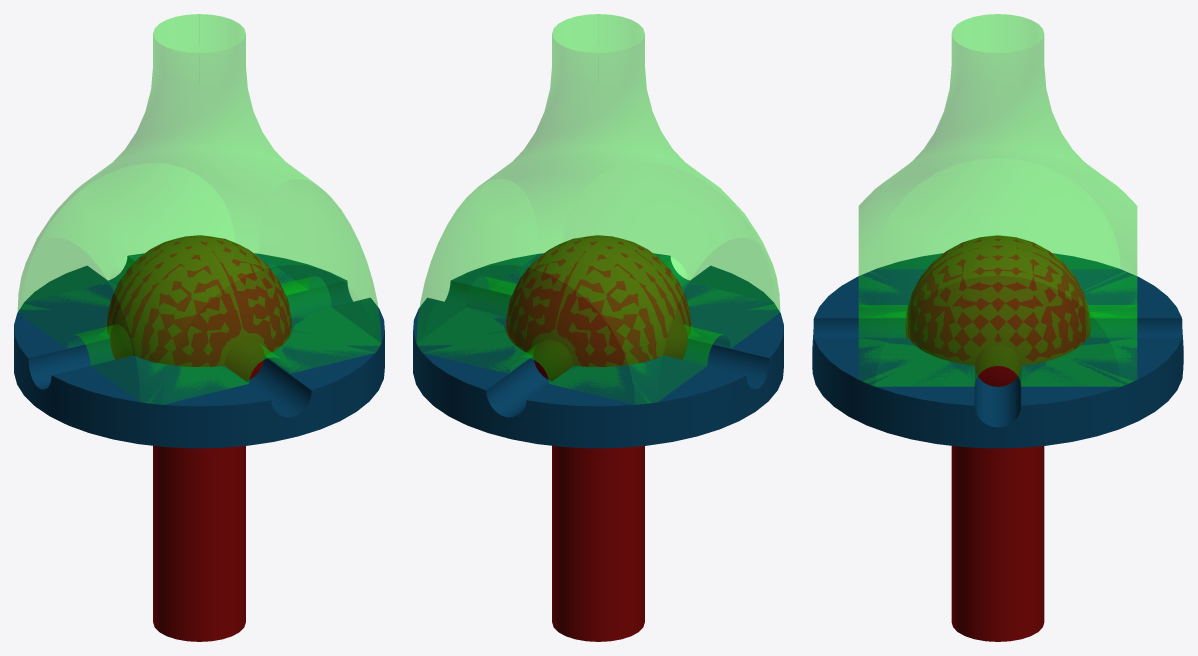
The model's file is ball-socket-assy.glb.
3 views of the same model, side by side, from view 1: azimuth 30°, elevation 25°; view 2: azimuth 150°, elevation 25°; view 3: azimuth 270°, elevation 25° (orthographic).
Visible parts, largest first — view 1: Body2, Body7, Body1; view 2: Body2, Body7, Body1; view 3: Body2, Body7, Body1.
Part boxes in pixels (x1,y1,x2,y2): Body2: (18,14,380,404); Body7: (14,253,384,448); Body1: (107,235,291,641); Body2: (417,14,779,404); Body7: (413,253,783,448); Body1: (506,235,690,641); Body2: (858,14,1137,386); Body7: (812,253,1183,448); Body1: (905,235,1090,641).
Bounding box in the file's own units: 0.04 × 0.07 × 0.04.
